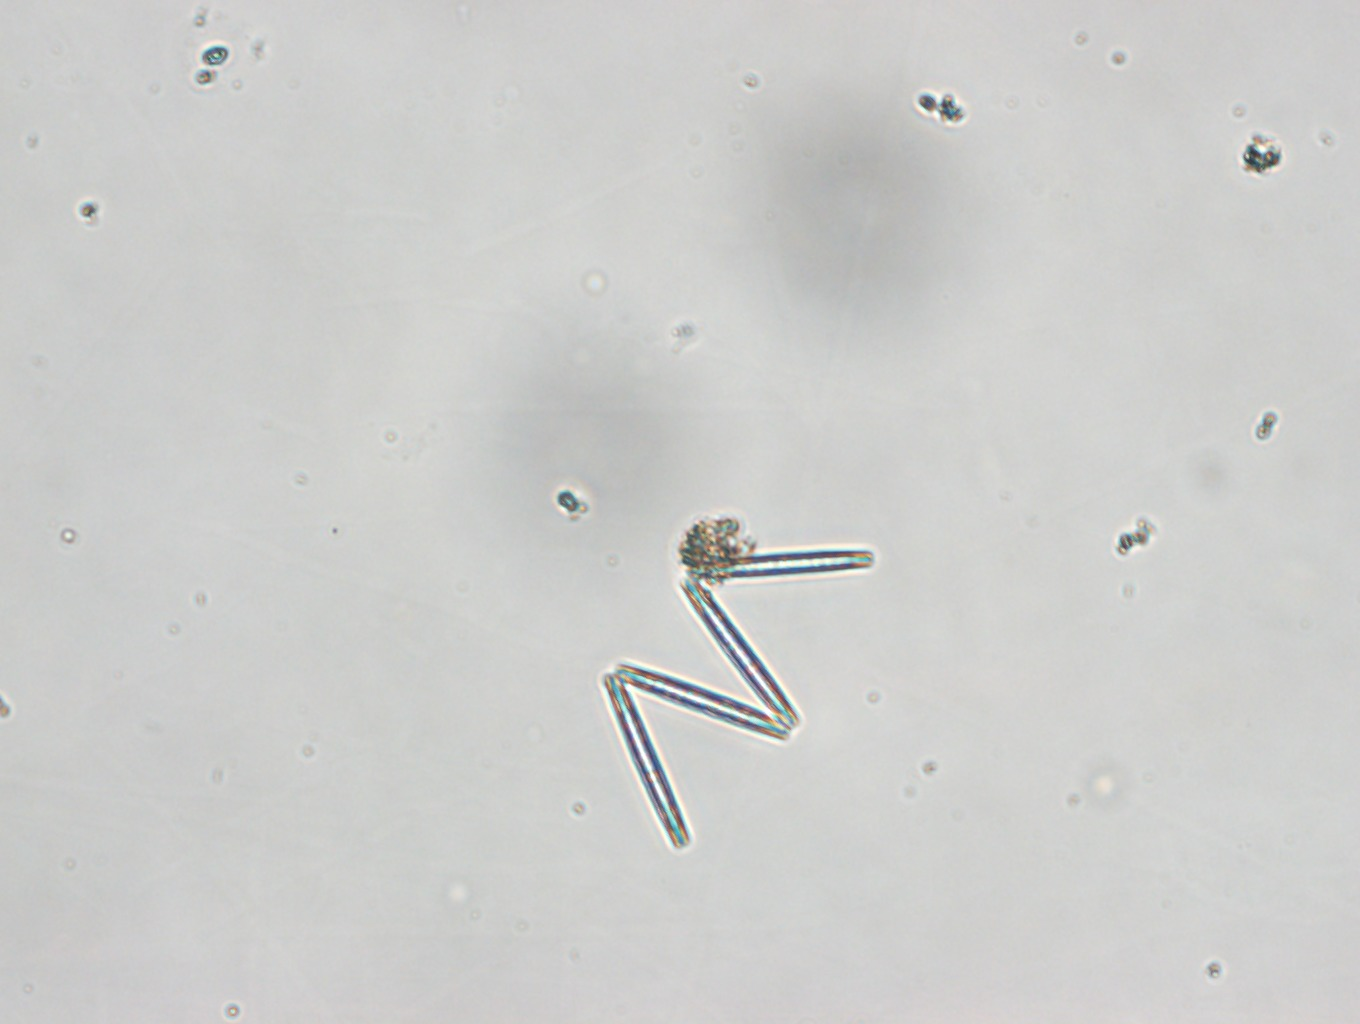thalassionema nitzschioides: (600, 546, 872, 850)
